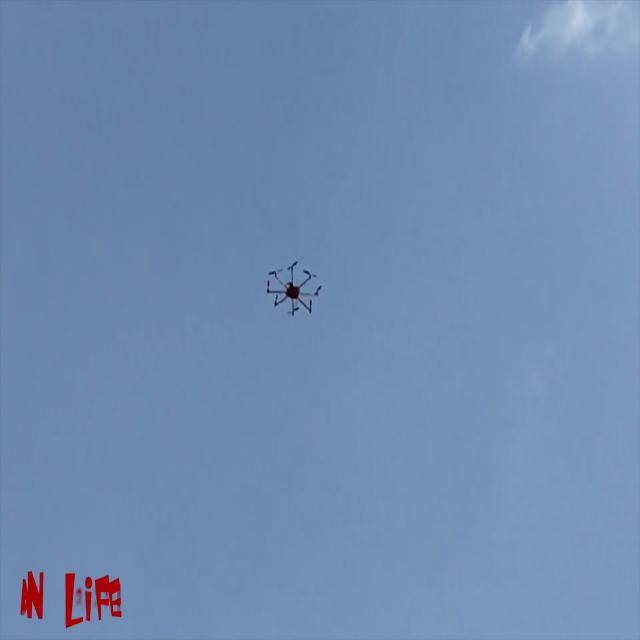drone: (259, 240, 334, 343)
